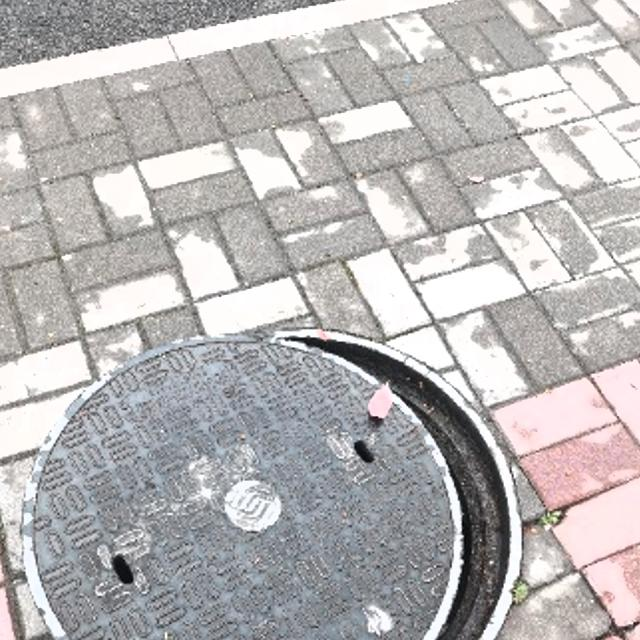uncovered: (9, 337, 541, 640)
